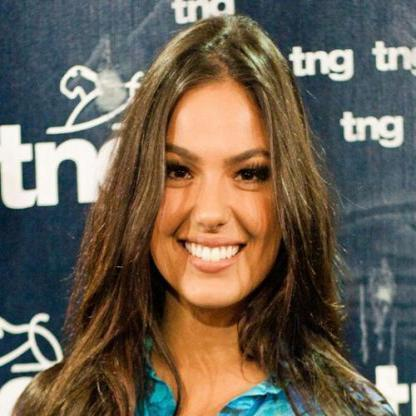long-hair: (55, 307, 355, 376)
